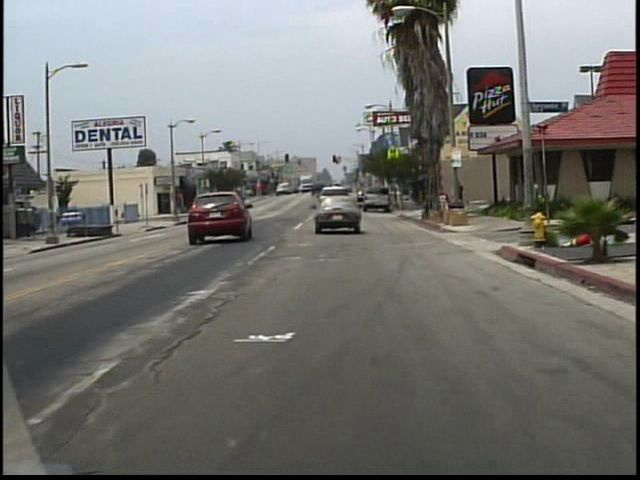person: (456, 182, 465, 209), (450, 185, 458, 209)
